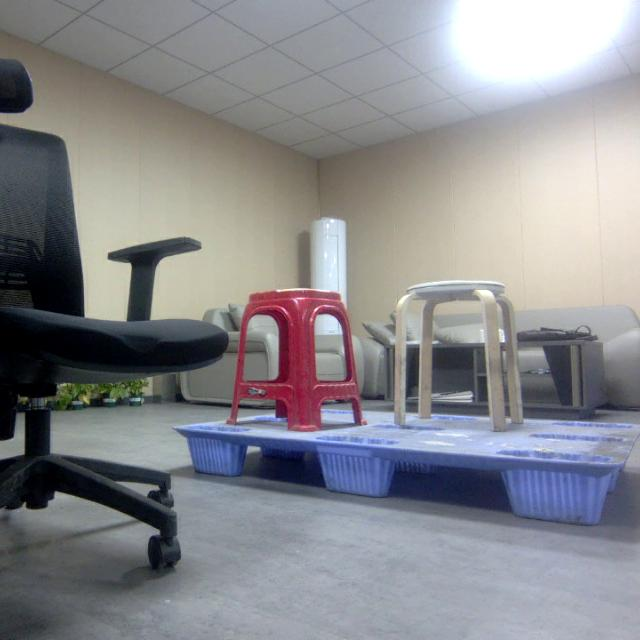block: (500, 463, 614, 528), (309, 443, 400, 498), (175, 428, 246, 478)
front: (180, 426, 619, 532)
hole pallet: (385, 458, 515, 519), (238, 444, 321, 490)
